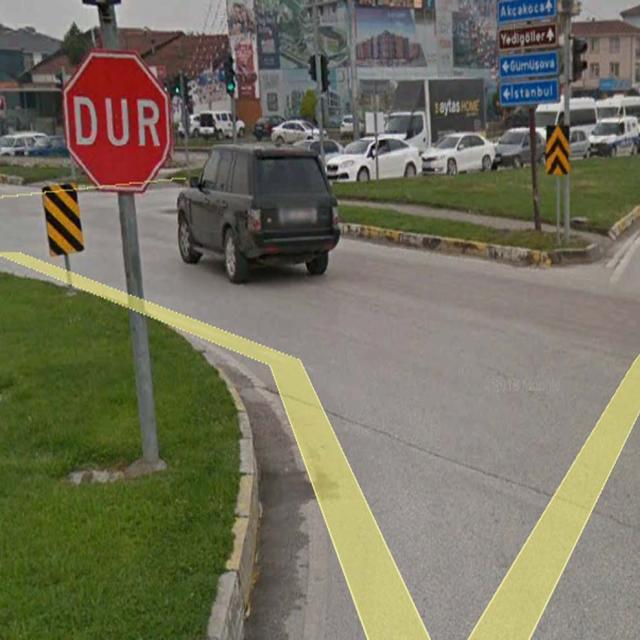dur: (62, 49, 172, 192)
